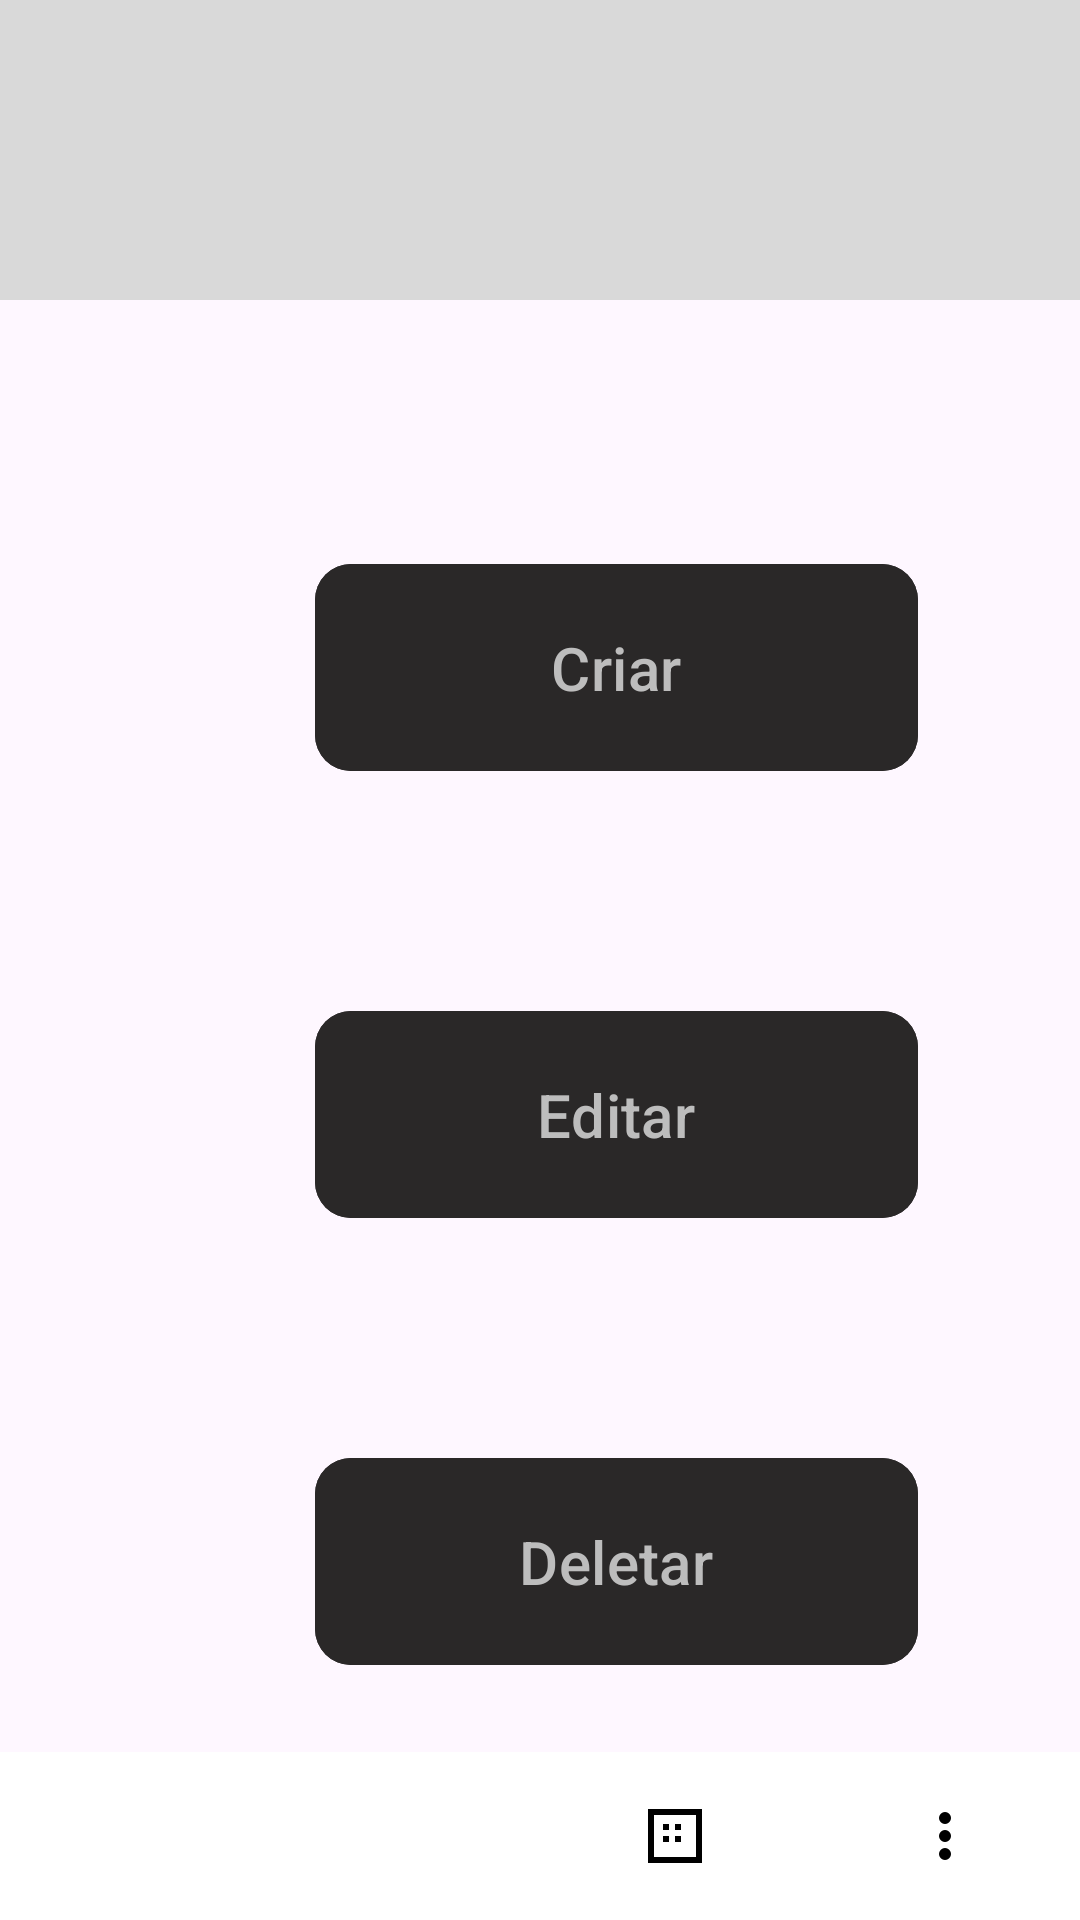

Screen size 1080x1920. Icon name, then its box in pixels as bbox=[x1, y1, x2, y2]:
More: bbox=[939, 1812, 951, 1860]
Motherboard: bbox=[648, 1809, 702, 1863]
